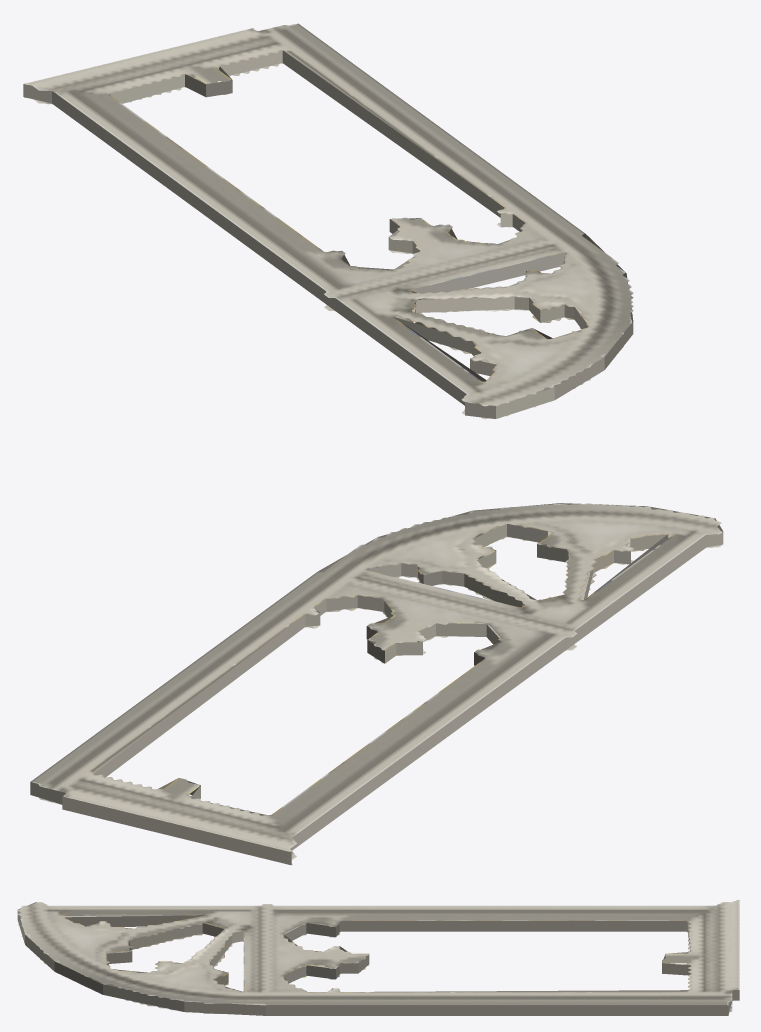
File: pz_native_fixtures_windows_church_71_frame.obj
The picture shows the model from 3 angles, top to bottom: view 1: azimuth 30°, elevation 25°; view 2: azimuth 150°, elevation 25°; view 3: azimuth 270°, elevation 25°; orthographic projection. The views are drawn at different scales.
Visible parts, largest first — view 1: pz_native_fixtures_windows_church_71_frame; view 2: pz_native_fixtures_windows_church_71_frame; view 3: pz_native_fixtures_windows_church_71_frame.
Boxes of the visible parts, box(x1,y1,x2,y2) form: pz_native_fixtures_windows_church_71_frame: box(23, 23, 633, 419); pz_native_fixtures_windows_church_71_frame: box(30, 503, 723, 865); pz_native_fixtures_windows_church_71_frame: box(17, 900, 739, 1015).
Bounding box in the file's own units: 0.8906 × 0.04 × 2.53.
1 material, 1 textured.
